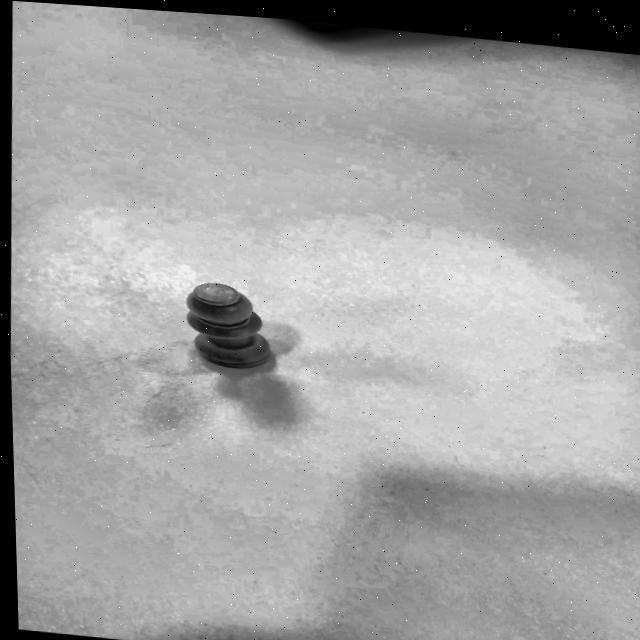white-bishop: (156, 266, 294, 384)
